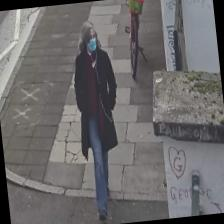person: (67, 20, 130, 218)
